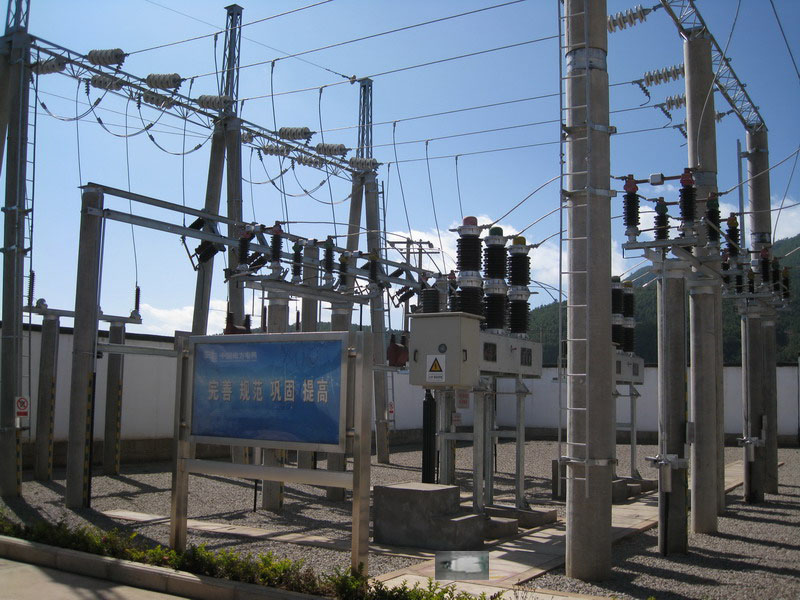oil: (435, 548, 489, 578)
